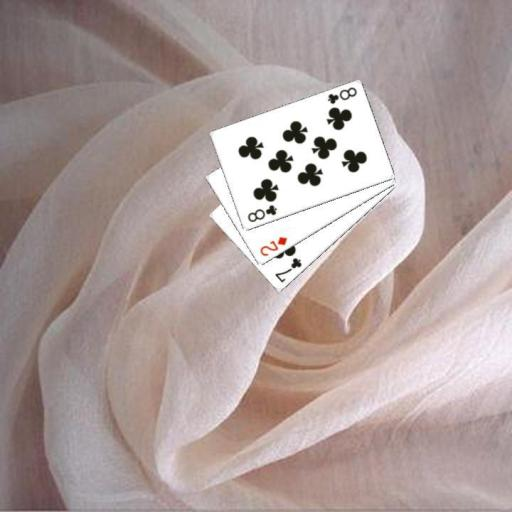2D: (257, 233, 289, 258)
7C: (272, 255, 304, 285)
8C: (244, 202, 278, 224), (325, 84, 359, 106)
